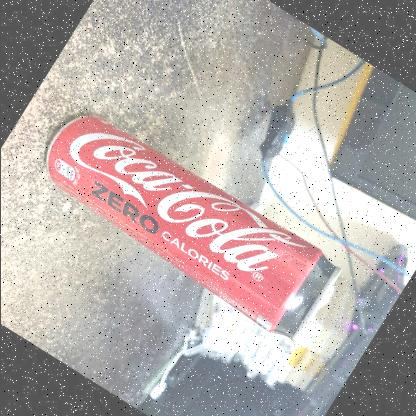Can: (8, 82, 362, 364)
